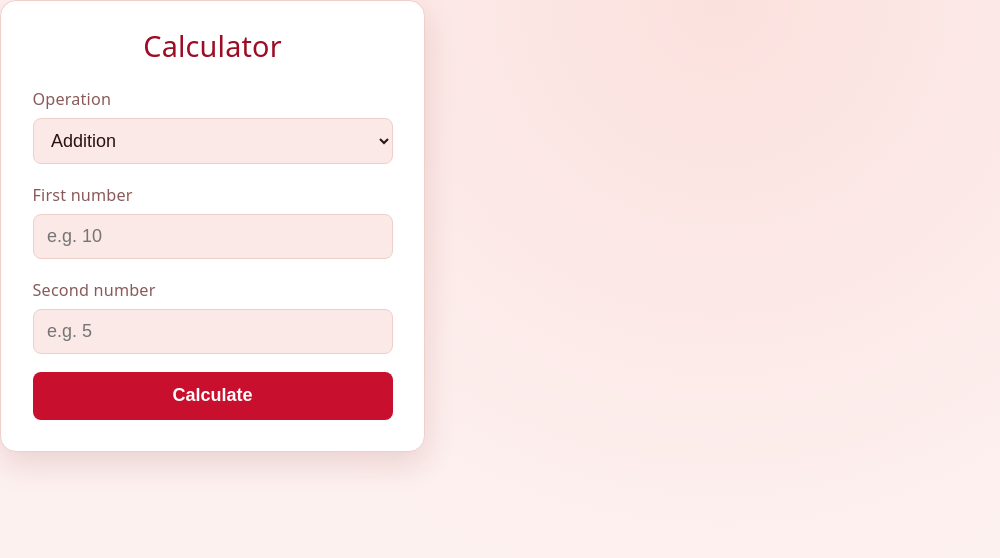
Test: Calculator › displays the result on a successful calculation
Type "5" into the field labelled "First number" at (212, 236), box [32,214,392,259]
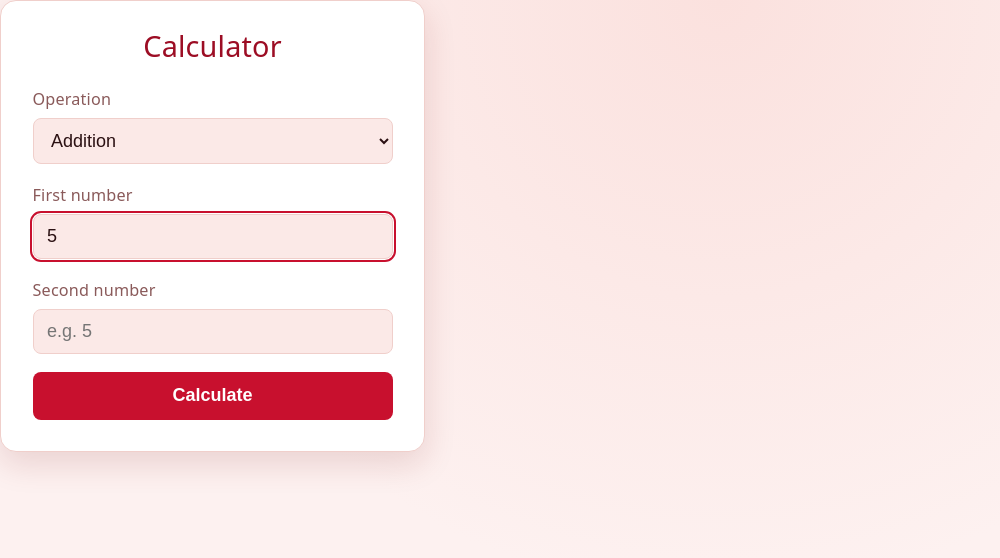
Type "3" into the field labelled "Second number" at (212, 331), box [32,309,392,354]
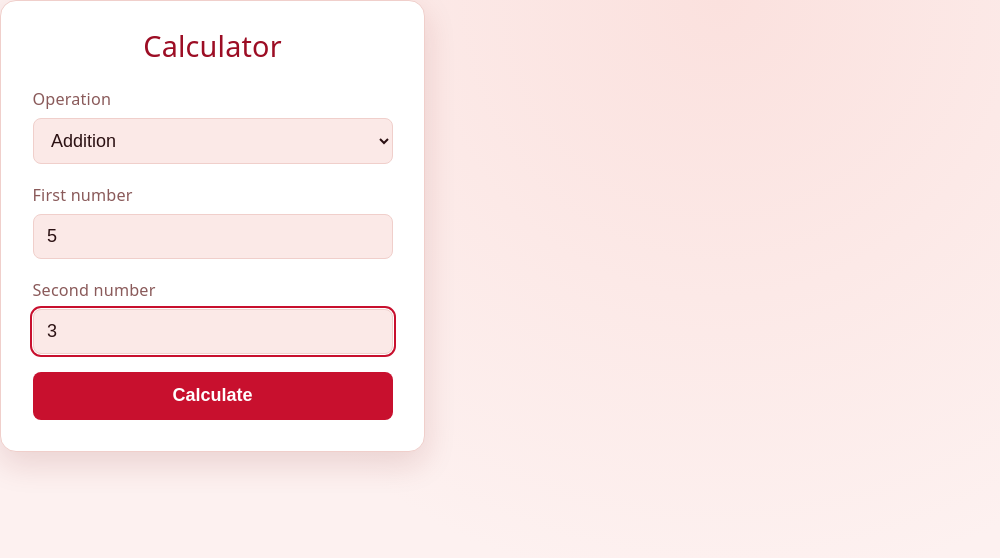
Click the button "Calculate" at (212, 396), box [32,372,392,420]
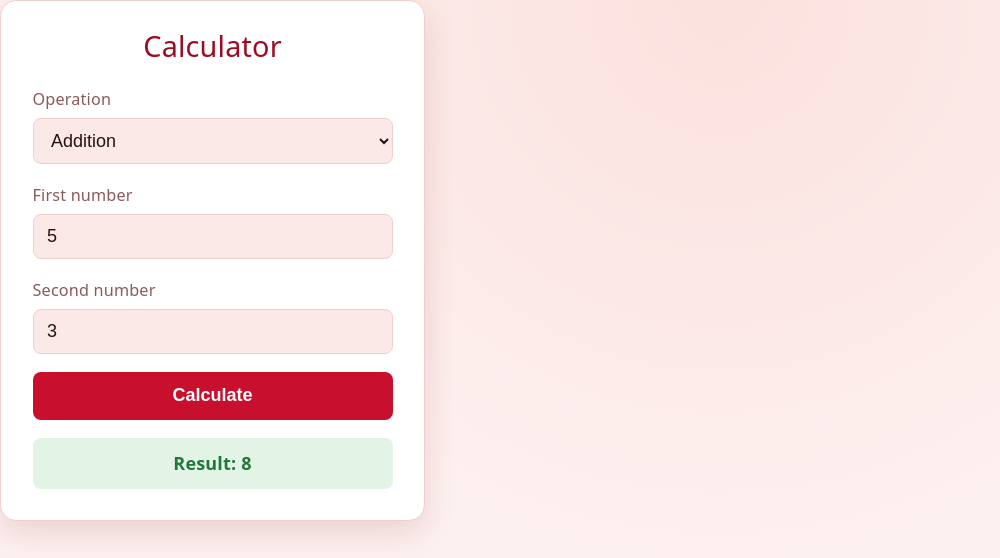
expect the text "Result: 8" is shown: met, box [32,438,392,489]
